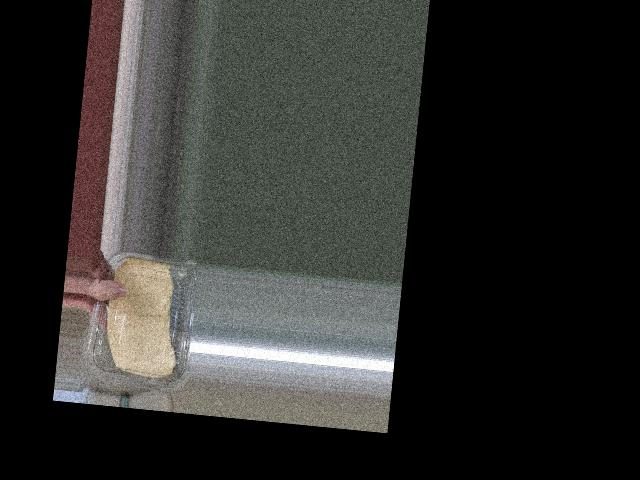cheese: (94, 249, 200, 393)
